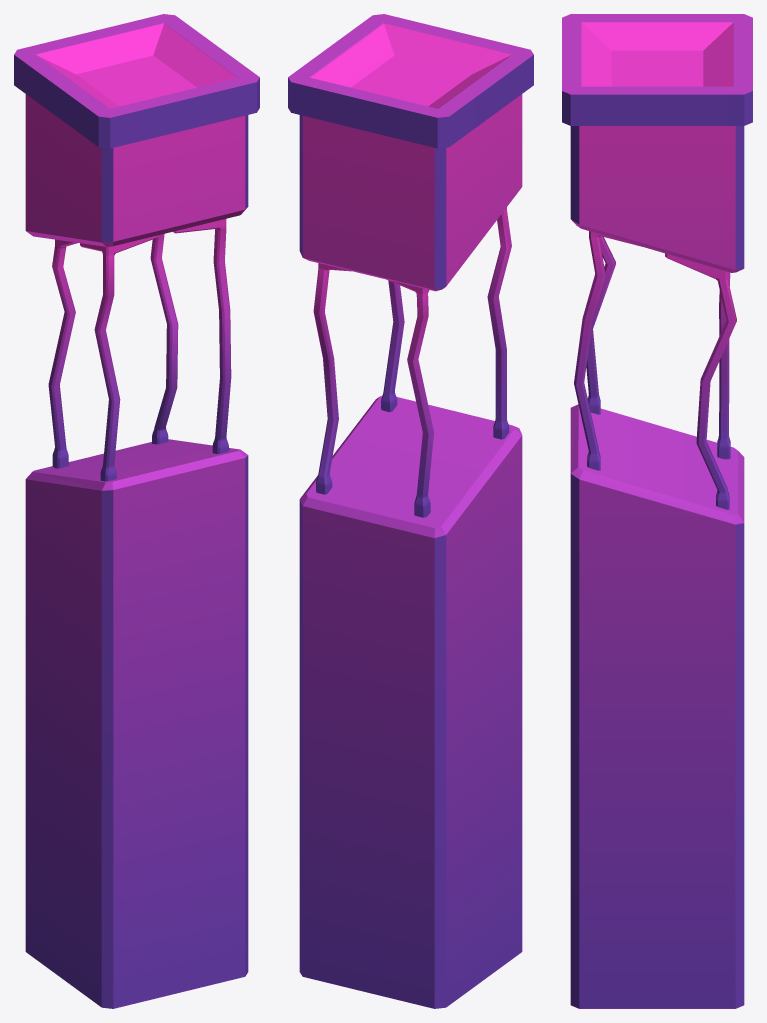
File: buildingsub2.fbx
The picture shows the model from 3 angles, left to right: view 1: azimuth 30°, elevation 25°; view 2: azimuth 150°, elevation 25°; view 3: azimuth 270°, elevation 25°; orthographic projection. The views are drawn at different scales.
Visible parts, largest first — view 1: building_6, s_23, s_22, s_19, s_18; view 2: building_6, s_19, s_18, s_23, s_22; view 3: building_6, s_18, s_22, s_19, s_23.
Part boxes in pixels (x1,y1,x2,y2): building_6: (14,14,259,1008); s_23: (80,235,158,481); s_22: (173,219,231,453); s_19: (48,239,77,468); s_18: (150,234,178,444); building_6: (288,14,533,1008); s_19: (387,279,433,517); s_18: (313,263,351,494); s_23: (487,207,511,439); s_22: (381,280,404,412); building_6: (562,14,752,1008); s_18: (665,253,736,509); s_22: (574,231,641,470); s_19: (717,272,730,459); s_23: (586,236,615,414).
Size of the model in its own units: 55 by 292 by 55.
